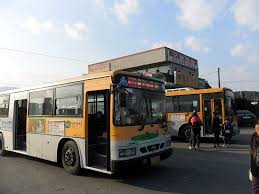entrance: (84, 89, 111, 172)
